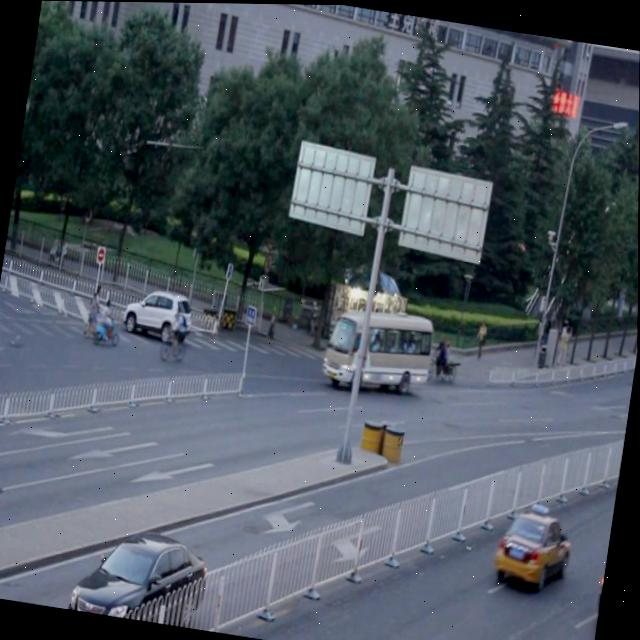car: (70, 522, 210, 629), (491, 498, 577, 592), (119, 283, 195, 347)
truck: (320, 302, 438, 397)
